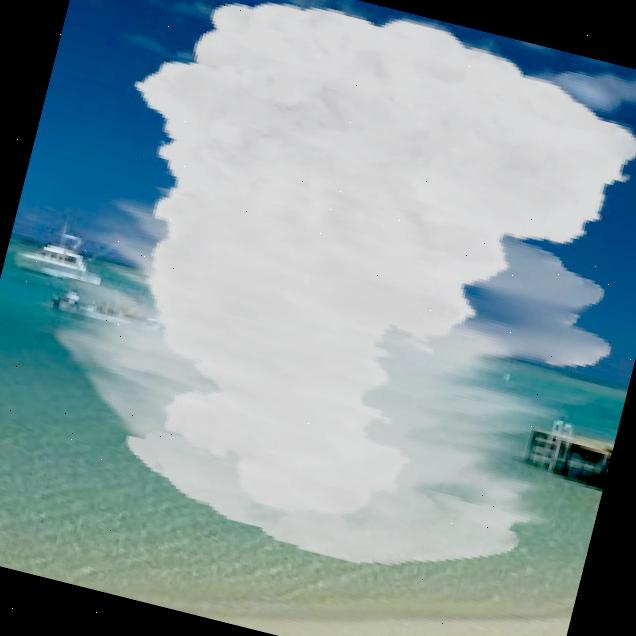smoke: (13, 0, 636, 611)
